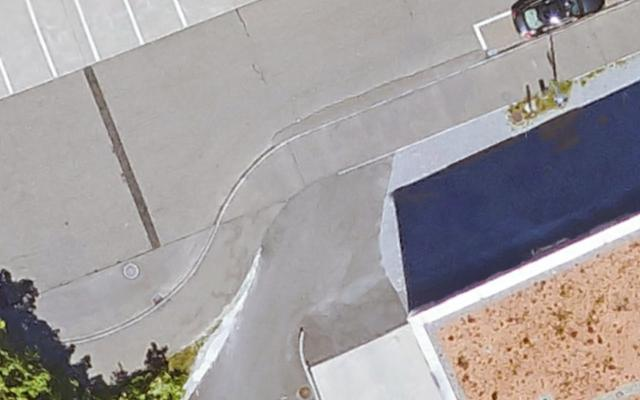tree: (0, 311, 57, 399), (122, 367, 188, 400)
